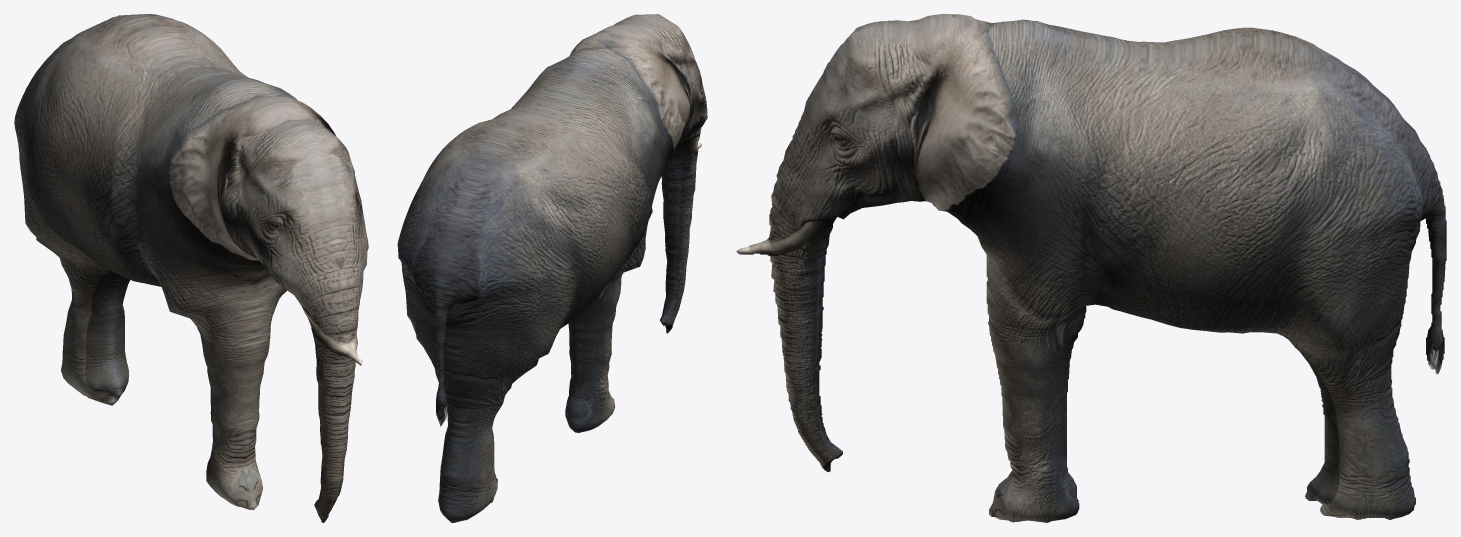
Rendered from elephant.glb.
3 renders of one model, left to right at view 1: azimuth 30°, elevation 25°; view 2: azimuth 150°, elevation 25°; view 3: azimuth 270°, elevation 25°, orthographic. The views are drawn at different scales.
Parts seen in each view (by area): view 1: elephant; view 2: elephant; view 3: elephant.
Part boxes in pixels (<box>): elephant: <box>14,14,368,522</box>; elephant: <box>397,14,707,522</box>; elephant: <box>736,14,1446,522</box>.
Bounding box in the file's own units: 1.53 × 3.2 × 4.12.
Materials: 1 (1 with a texture image).
